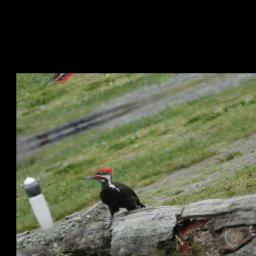Woodpecker: (79, 156, 148, 228)
